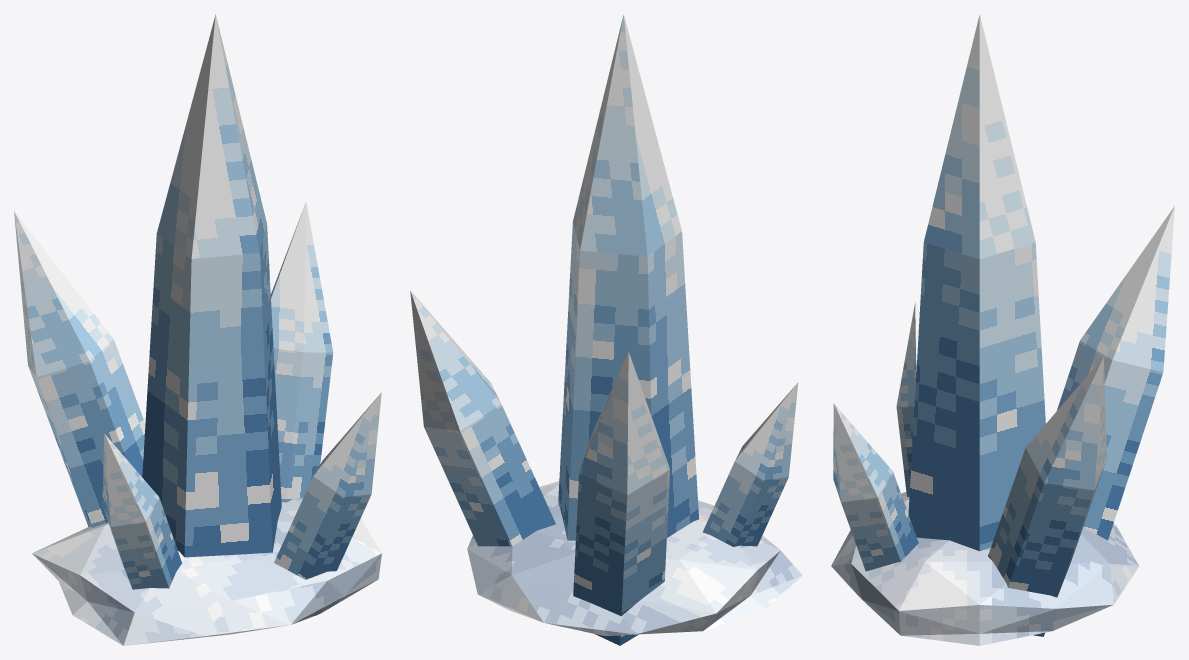
The model's file is ice_spike.glb.
3 renders of one model, left to right at view 1: azimuth 30°, elevation 25°; view 2: azimuth 150°, elevation 25°; view 3: azimuth 270°, elevation 25°, orthographic.
Visible parts, largest first — view 1: ice_spike; view 2: ice_spike; view 3: ice_spike.
Part boxes in pixels (box(x1,y1,x2,y2)): ice_spike: box(14, 14, 381, 645); ice_spike: box(410, 14, 802, 645); ice_spike: box(831, 14, 1174, 645).
Bounding box in the file's own units: 0.8535 × 1.6 × 0.8623.
2 materials, 2 textured.
